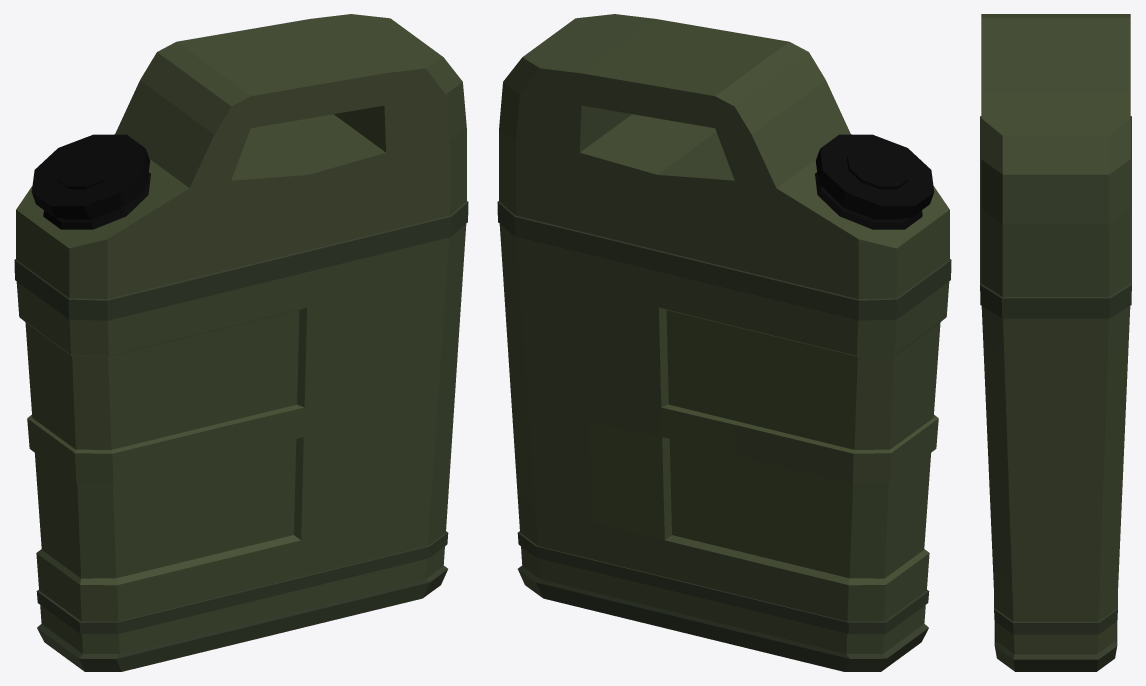
Rendered from fuel.glb.
3 views of the same model, side by side, from view 1: azimuth 30°, elevation 25°; view 2: azimuth 150°, elevation 25°; view 3: azimuth 270°, elevation 25° (orthographic).
Visible parts, largest first — view 1: item_fuel; view 2: item_fuel; view 3: item_fuel.
Boxes of the visible parts, box(x1,y1,x2,y2) form: item_fuel: box(14, 14, 468, 671); item_fuel: box(497, 14, 951, 671); item_fuel: box(980, 14, 1131, 671).
Bounding box in the file's own units: 0.3568 × 0.47 × 0.1169.
